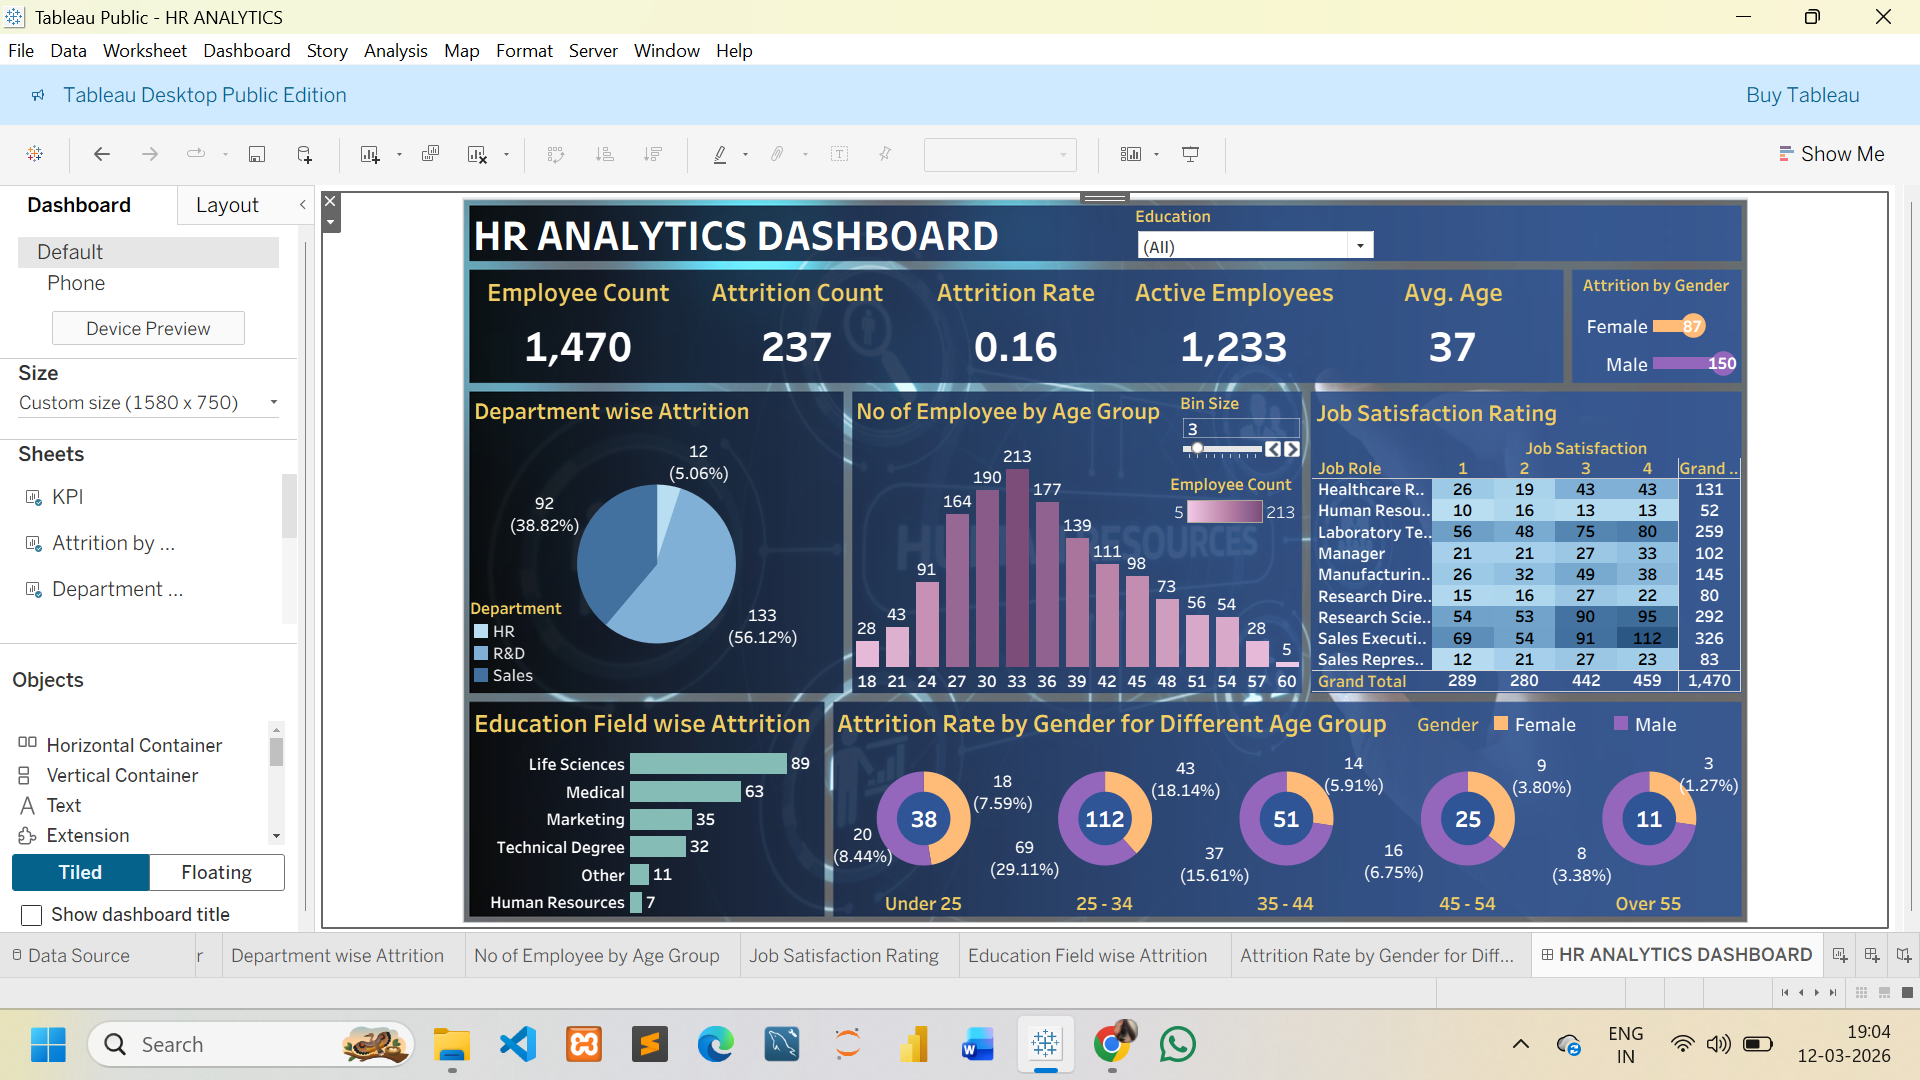

Layout of this report page (visuals, bound fields, positions):
{"tool":"tableau","page":{"name":"HR ANALYTICS DASHBOARD","canvas":[1580,750],"ordinal":0},"visuals":[{"type":"image","param":"Image/Screenshot 2025-12-16 191357.png","box":[8,8,1564,734]},{"type":"filter","title":"Department wise Attrition","param":"[federated.1a30oqw0tfo8pq12dhktq0dughxz].[none:Education:nk]","box":[820,20,242,53]},{"type":"text","box":[154,21,560,55]},{"type":"worksheet","title":"KPI","mark":"Automatic","box":[154,83,1094,114]},{"type":"worksheet","title":"Attrition by Gender","mark":"Automatic","rows":["Gender"],"cols":["Calculation_1563593513185210368","Calculation_1563593513185210368"],"box":[1258,85,166,112]},{"type":"worksheet","title":"Department wise Attrition","mark":"Pie","box":[155,206,373,301]},{"type":"worksheet","title":"No of Employee by Age Group","mark":"Automatic","rows":["Employee Count"],"cols":["Age (bin)"],"box":[537,206,450,302]},{"type":"parameter","param":"[Parameters].[Parameter 1]","box":[865,207,123,72]},{"type":"worksheet","title":"Job Satisfaction Rating","mark":"Square","rows":["Job Role"],"cols":["Job Satisfaction"],"box":[997,208,429,299]},{"type":"legend","title":"No of Employee by Age Group","param":"[federated.1a30oqw0tfo8pq12dhktq0dughxz].[sum:Employee Count:qk]","box":[855,288,130,55]},{"type":"legend","title":"Department wise Attrition","param":"[federated.1a30oqw0tfo8pq12dhktq0dughxz].[none:Department:nk]","box":[155,412,101,94]},{"type":"worksheet","title":"Education Field wise Attrition","mark":"Automatic","rows":["Education Field"],"cols":["Calculation_1563593513185210368"],"box":[155,517,354,214]},{"type":"worksheet","title":"Attrition Rate by Gender for Different Age Group","mark":"Pie","rows":["Calculation_0534105703845889","Calculation_0534105703845889"],"cols":["CF_age band"],"box":[518,517,907,214]},{"type":"legend","title":"Attrition Rate by Gender for Different Age Group","param":"[federated.1a30oqw0tfo8pq12dhktq0dughxz].[none:Gender:nk]","box":[1102,526,324,27]}]}

Visuals, with their boxes on the page's 1580x750 design canvas (x1, y1, x2, y2). These are canvas units, not pixel positions in the 1920x1080 screenshot, which may show the page scaled, cropped or inside an application window:
image: <box>8,8,1572,742</box>
"Department wise Attrition" filter: <box>820,20,1062,73</box>
text: <box>154,21,714,76</box>
"KPI" worksheet: <box>154,83,1248,197</box>
"Attrition by Gender" worksheet: <box>1258,85,1424,197</box>
"Department wise Attrition" worksheet (Pie marks): <box>155,206,528,507</box>
"No of Employee by Age Group" worksheet: <box>537,206,987,508</box>
parameter: <box>865,207,988,279</box>
"Job Satisfaction Rating" worksheet (Square marks): <box>997,208,1426,507</box>
"No of Employee by Age Group" legend: <box>855,288,985,343</box>
"Department wise Attrition" legend: <box>155,412,256,506</box>
"Education Field wise Attrition" worksheet: <box>155,517,509,731</box>
"Attrition Rate by Gender for Different Age Group" worksheet (Pie marks): <box>518,517,1425,731</box>
"Attrition Rate by Gender for Different Age Group" legend: <box>1102,526,1426,553</box>
